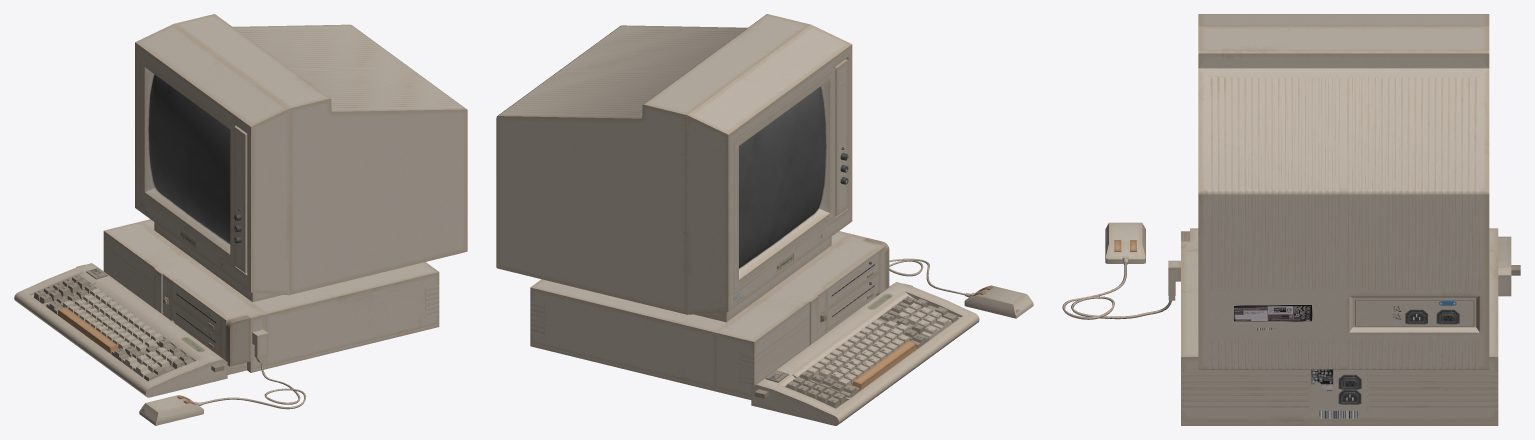
The model's file is SM_Computer_01b.fbx.
The picture shows the model from 3 angles, left to right: view 1: azimuth 30°, elevation 25°; view 2: azimuth 150°, elevation 25°; view 3: azimuth 270°, elevation 25°; orthographic projection. The views are drawn at different scales.
Parts seen in each view (by area): view 1: SM_Computer_01b_LOD0; view 2: SM_Computer_01b_LOD0; view 3: SM_Computer_01b_LOD0.
Boxes of the visible parts, left/top/right/bottom form: SM_Computer_01b_LOD0: left=14, top=14, right=467, bottom=425; SM_Computer_01b_LOD0: left=496, top=14, right=1033, bottom=425; SM_Computer_01b_LOD0: left=1062, top=14, right=1520, bottom=425.
Bounding box in the file's own units: 86.4 × 78.09 × 58.83.
